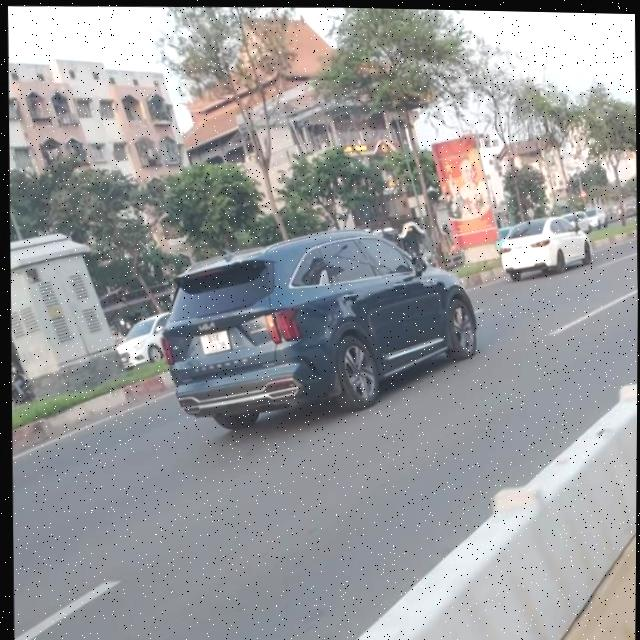car: (157, 219, 484, 439), (496, 212, 596, 281)
plate: (193, 325, 239, 357)
